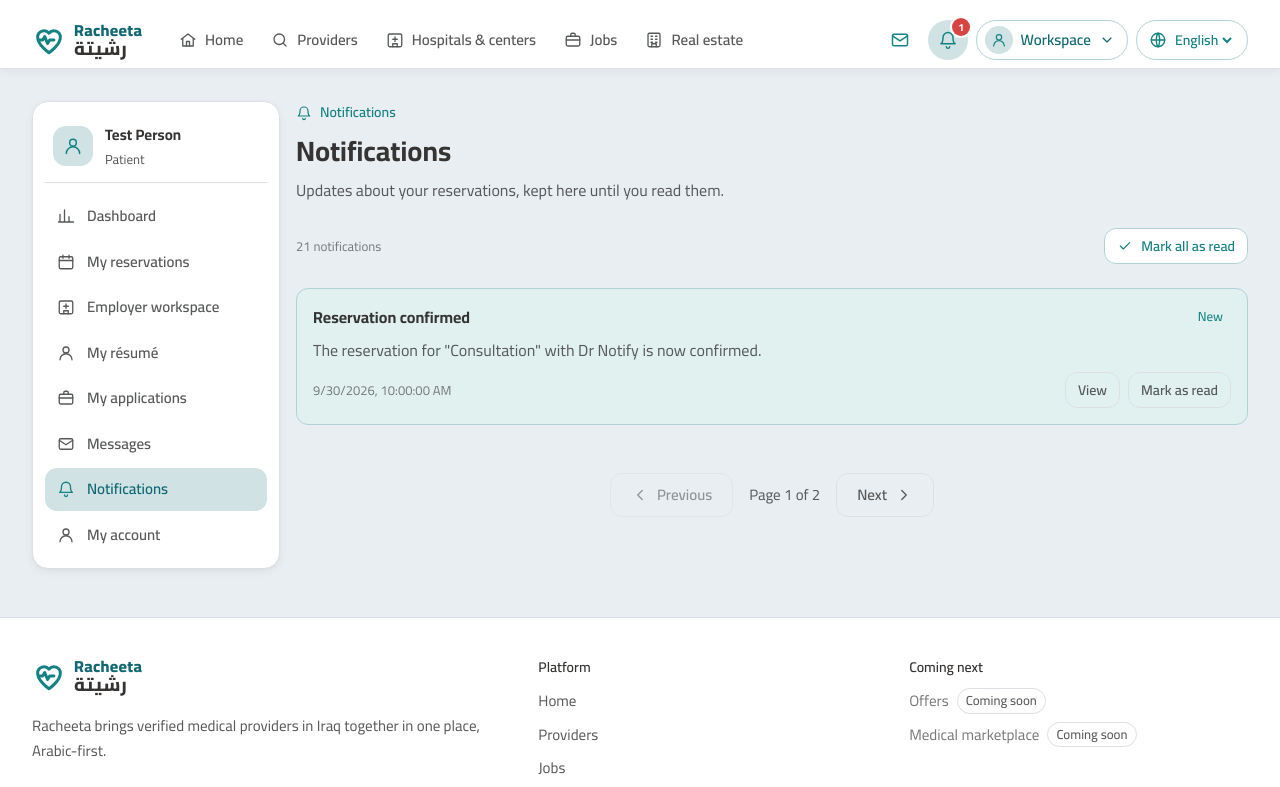
NotificationsPage › paginates through the backend pages
Expected: the heading "Reservation confirmed" is shown, [313,307,470,328]
Click the button "Next".
click(885, 495)  # box [836,473,934,517]
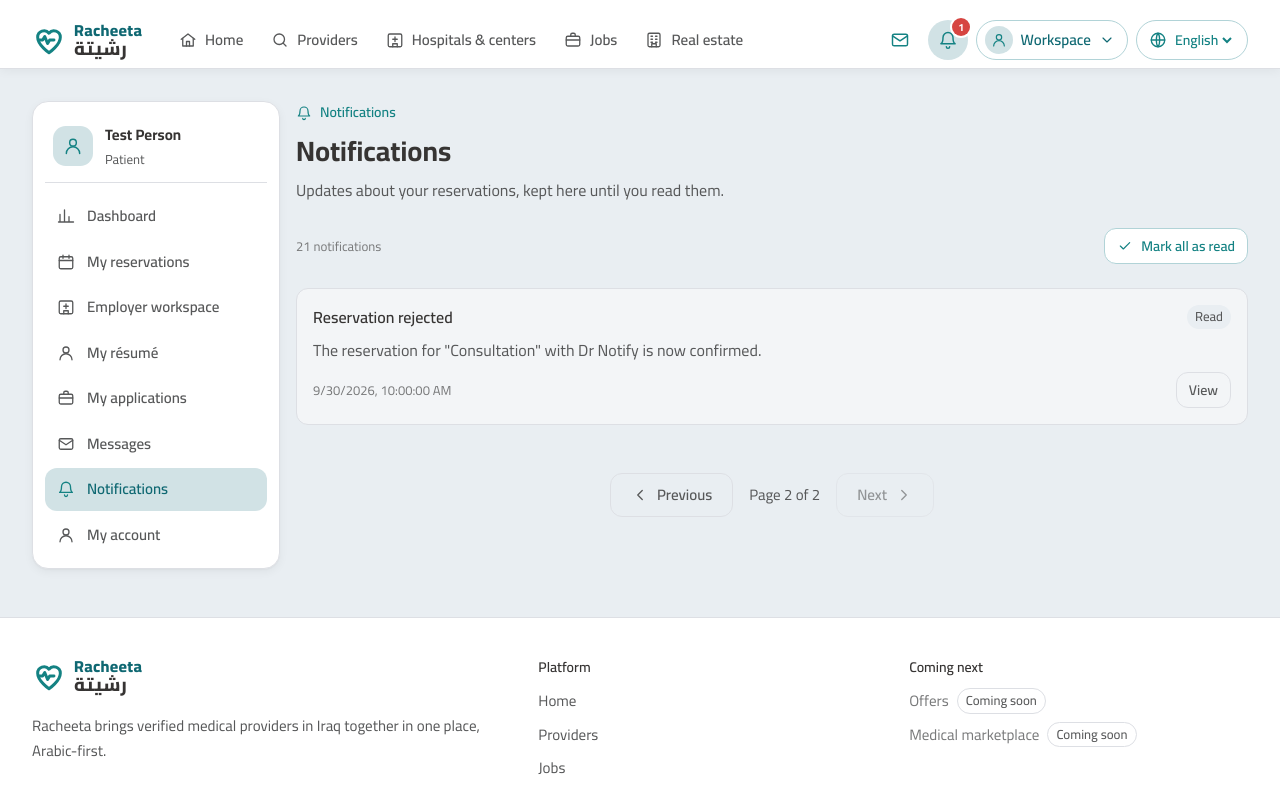
Result: the heading "Reservation rejected" is shown at [313,307,453,328]
